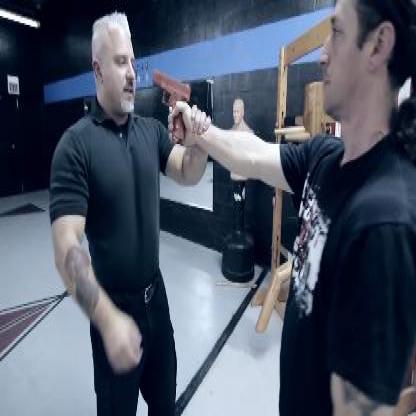pistol: (152, 66, 190, 140)
